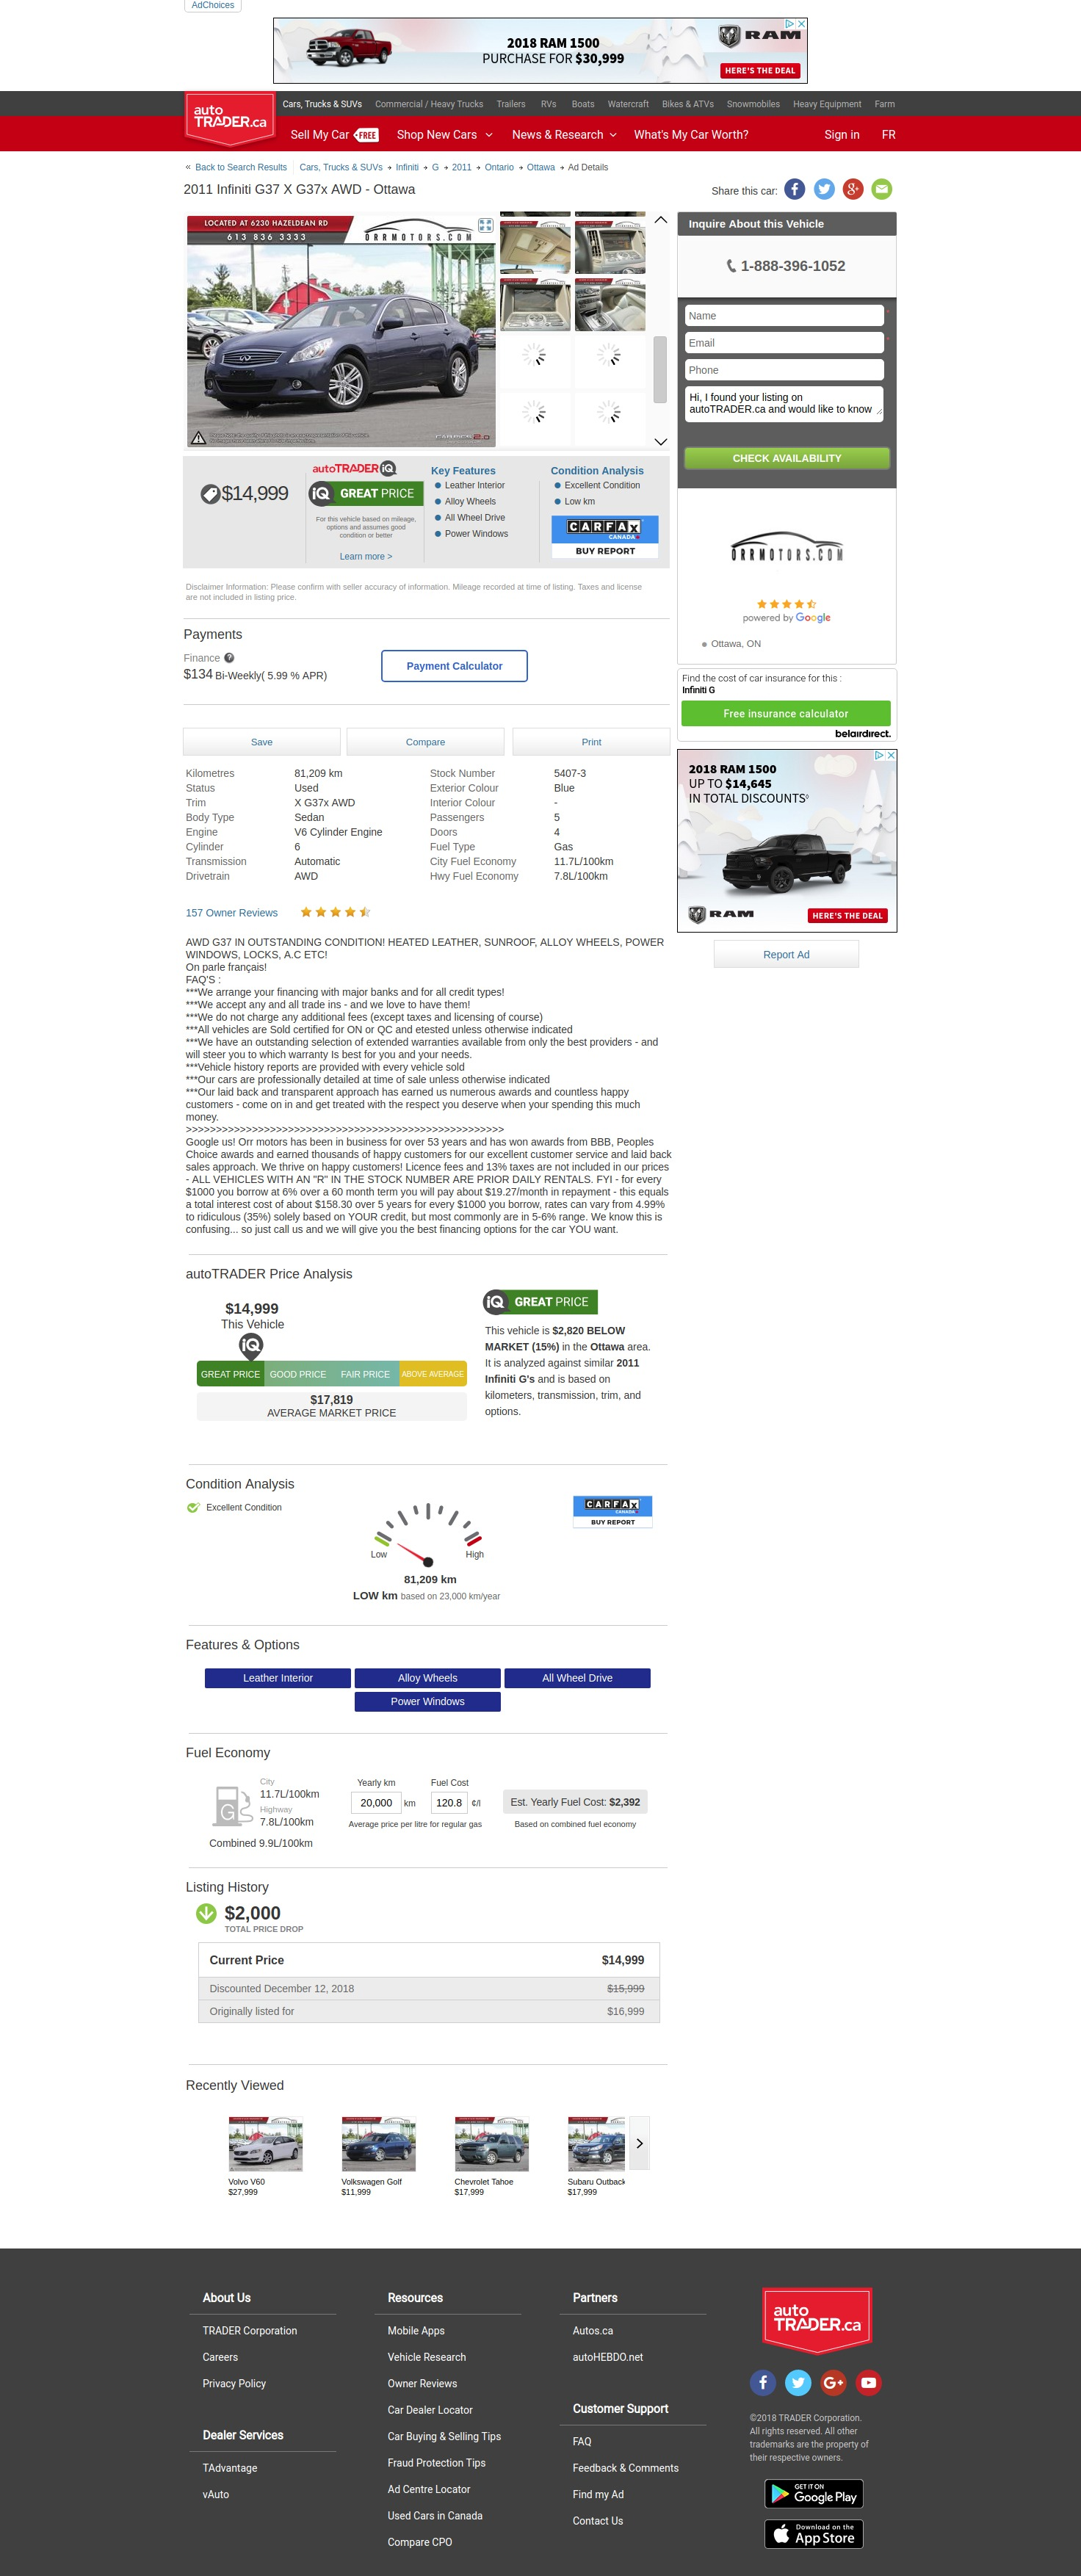car: (654, 437, 669, 447)
